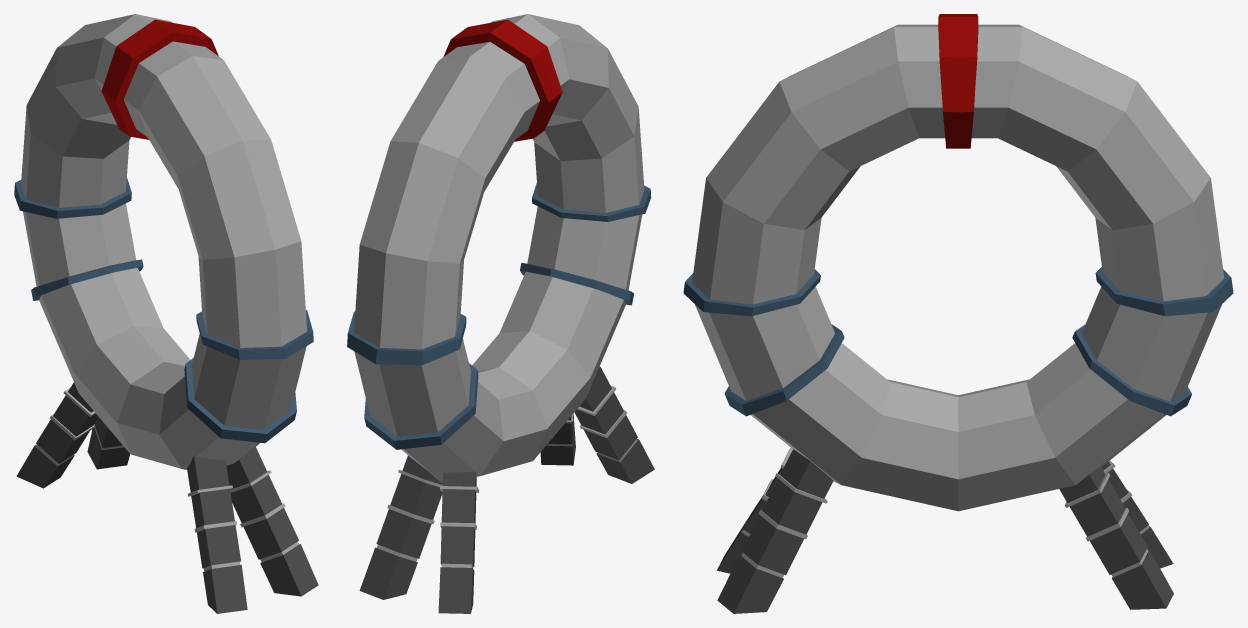
Rendered from portal end.fbx.
The picture shows the model from 3 angles, left to right: view 1: azimuth 30°, elevation 25°; view 2: azimuth 150°, elevation 25°; view 3: azimuth 270°, elevation 25°; orthographic projection. The views are drawn at different scales.
Visible parts, largest first — view 1: Torus, Cube.001, Cube.002, Cube.003, Cube.004; view 2: Torus, Cube.004, Cube.003, Cube.002, Cube.001; view 3: Torus, Cube.001, Cube.004, Cube.003, Cube.002.
Part boxes in pixels (x1,y1,x2,y2): Torus: (14,14,313,469); Cube.001: (226,447,318,596); Cube.002: (187,456,247,613); Cube.003: (16,382,98,488); Cube.004: (87,417,129,469); Torus: (347,14,651,482); Cube.004: (359,455,442,599); Cube.003: (438,471,478,613); Cube.002: (574,366,654,483); Cube.001: (540,413,575,465); Torus: (683,14,1233,511); Cube.001: (717,449,833,613); Cube.004: (1059,467,1173,609); Cube.003: (1101,460,1173,568); Cube.002: (717,448,792,573).
Size of the model in its own units: 388 by 1616 by 1411.
